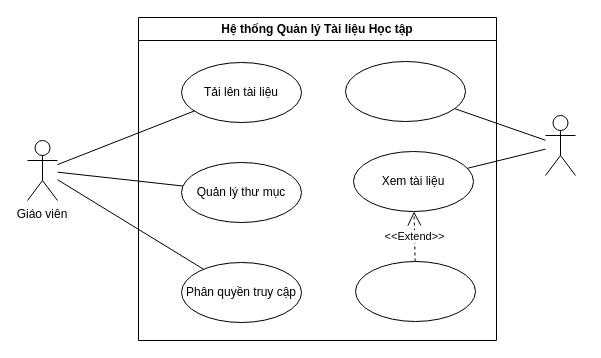
The diagram is 601 pixels wide and 358 high, and some of its shapes have lost their labels. Here are the shapes that lost their labels. From the top down, the centre of each, then its label:
At [405,91]: "Tải xuống tài liệu".
At [560,145]: "Học sinh".
At [415,291]: "Tìm kiếm tài liệu".
